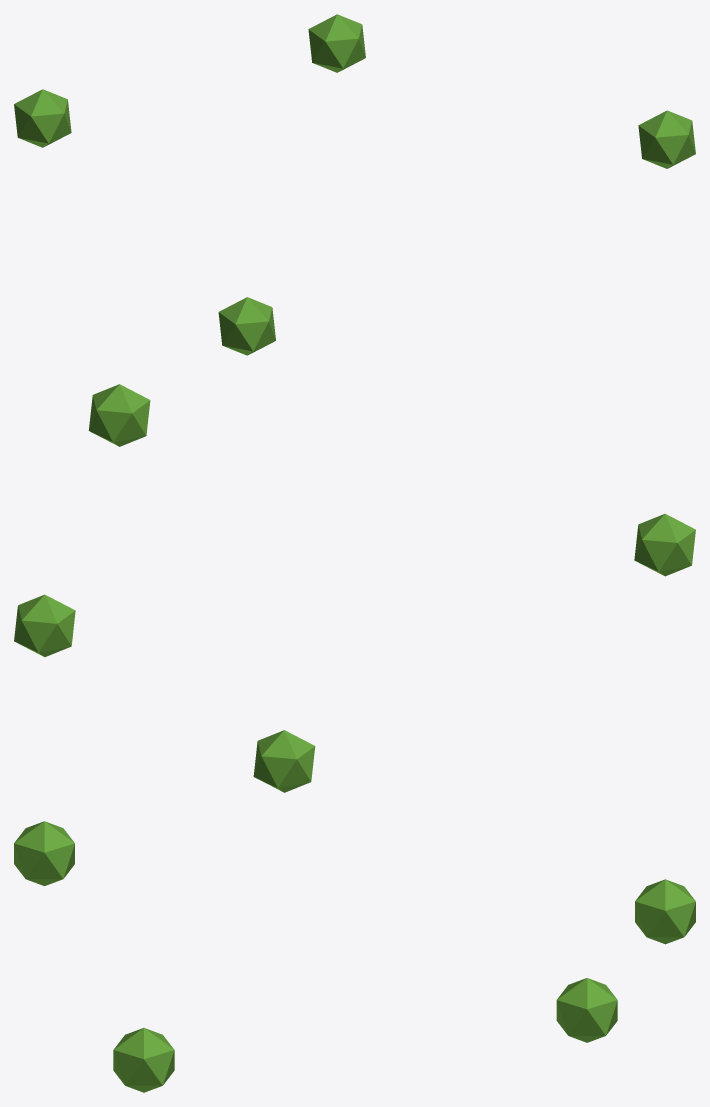
Rendered from childcorn0.fbx.
3 views of the same model, one above another, from view 1: azimuth 30°, elevation 25°; view 2: azimuth 150°, elevation 25°; view 3: azimuth 270°, elevation 25° (orthographic). The views are drawn at different scales.
Parts seen in each view (by area): view 1: childCorn0; view 2: childCorn0; view 3: childCorn0.
Boxes of the visible parts, left/top/right/bottom form: childCorn0: left=14, top=14, right=695, bottom=355; childCorn0: left=14, top=384, right=695, bottom=792; childCorn0: left=14, top=821, right=695, bottom=1092.
Bounding box in the file's own units: 155 × 33 × 160.
